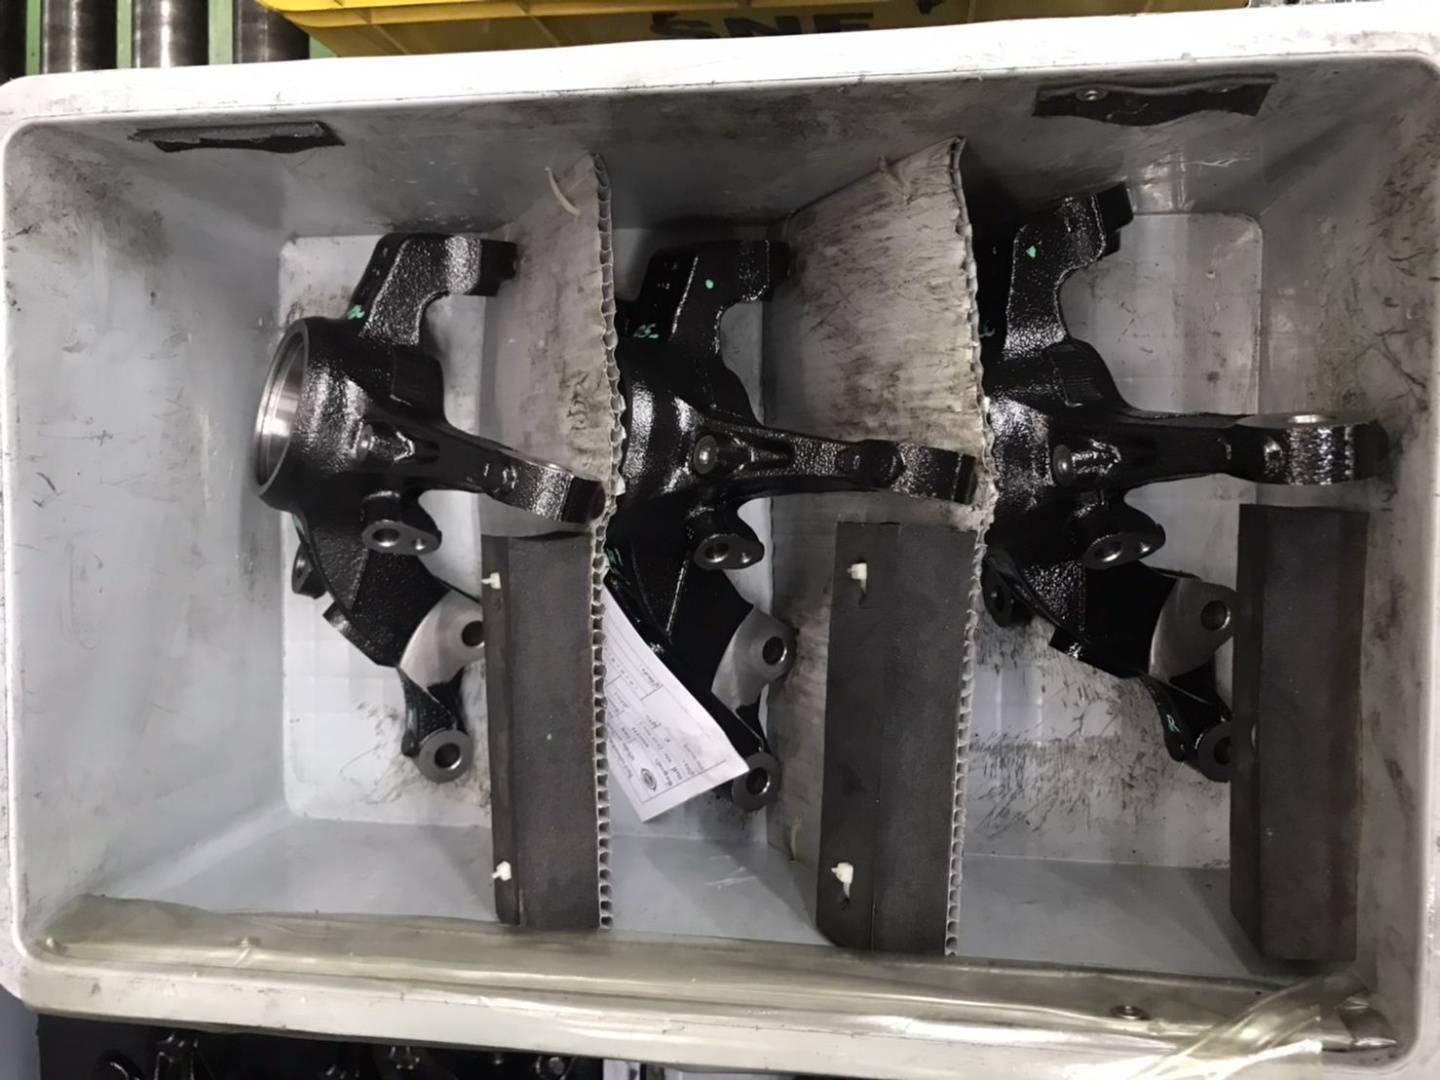abs-rh: (979, 177, 1394, 793), (601, 230, 983, 820), (239, 217, 605, 793)
